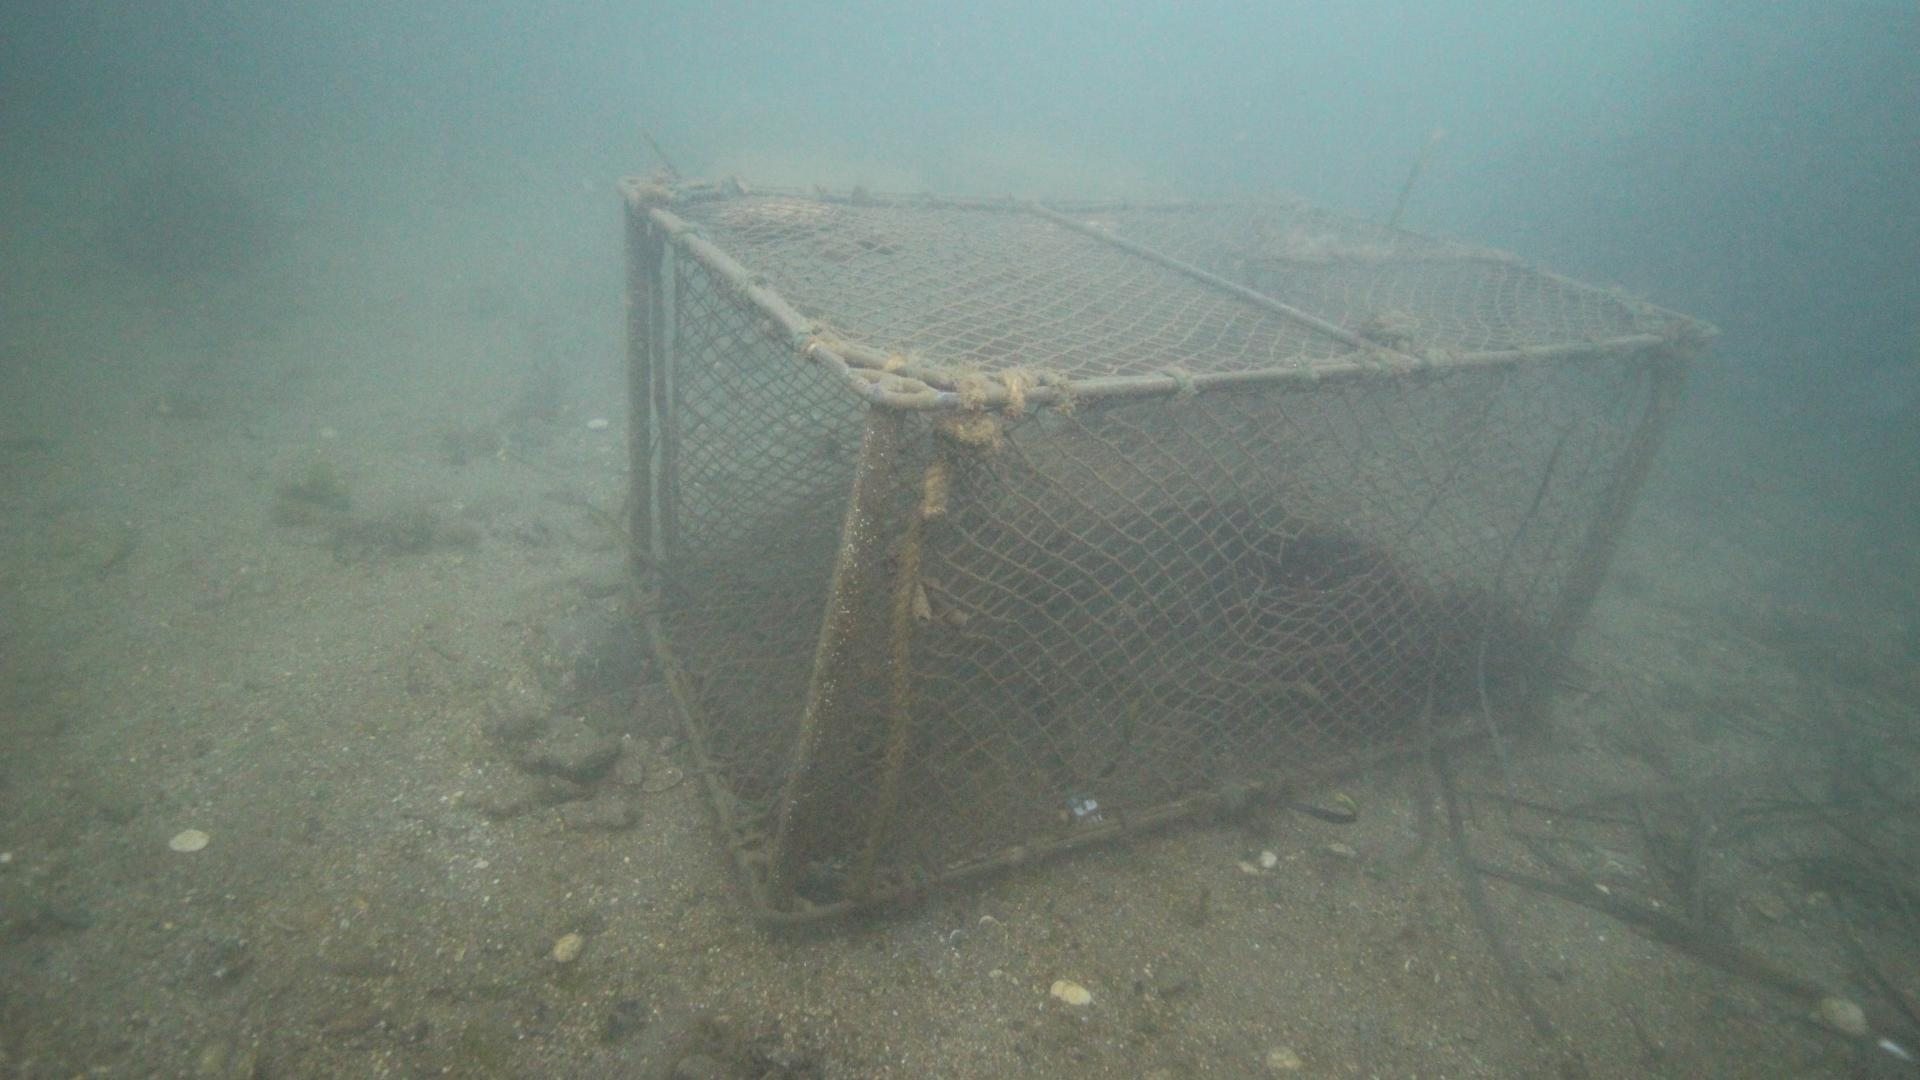rectangular fish trap: (617, 171, 1721, 927)
